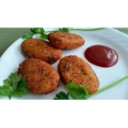cutlet: (61, 55, 100, 93), (17, 57, 59, 91), (21, 39, 64, 61), (49, 30, 86, 50)
